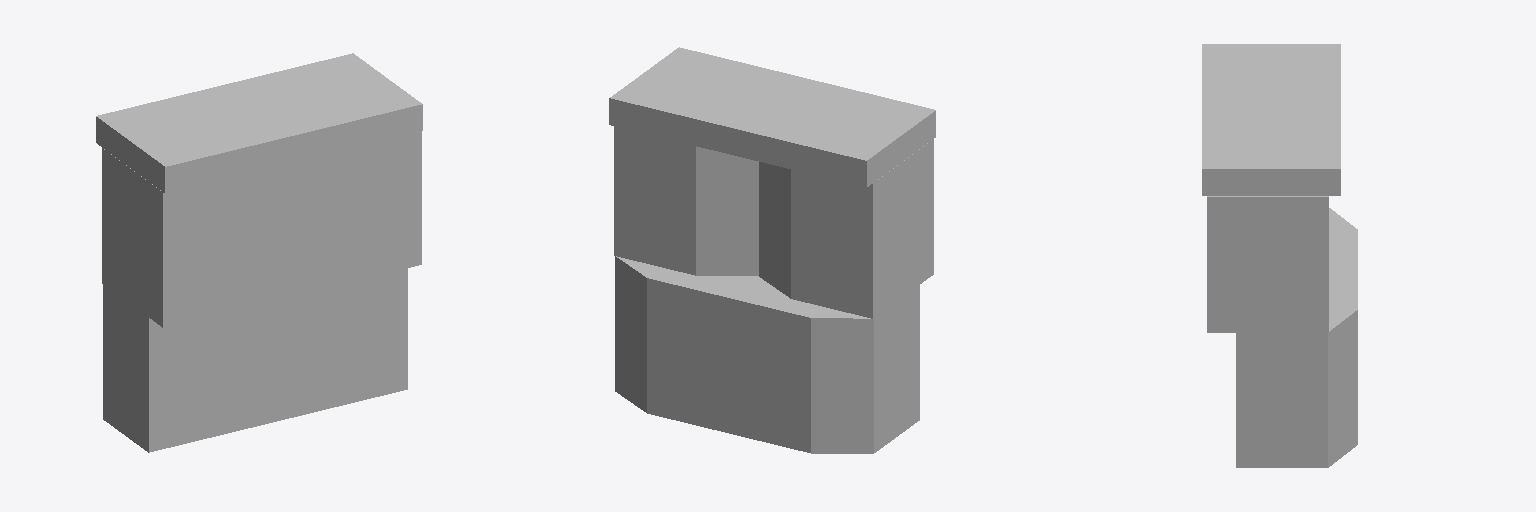
File: mylandscaping_block1_middle_top.obj
3 views of the same model, side by side, from view 1: azimuth 30°, elevation 25°; view 2: azimuth 150°, elevation 25°; view 3: azimuth 270°, elevation 25° (orthographic).
Parts seen in each view (by area): view 1: Block_Left_Top.002_Cube.009; view 2: Block_Left_Top.002_Cube.009; view 3: Block_Left_Top.002_Cube.009.
Part boxes in pixels (x1,y1,x2,y2): Block_Left_Top.002_Cube.009: (96, 53, 422, 452); Block_Left_Top.002_Cube.009: (609, 47, 935, 453); Block_Left_Top.002_Cube.009: (1202, 44, 1357, 467).
Bounding box in the file's own units: 1 × 1.1 × 0.5206.